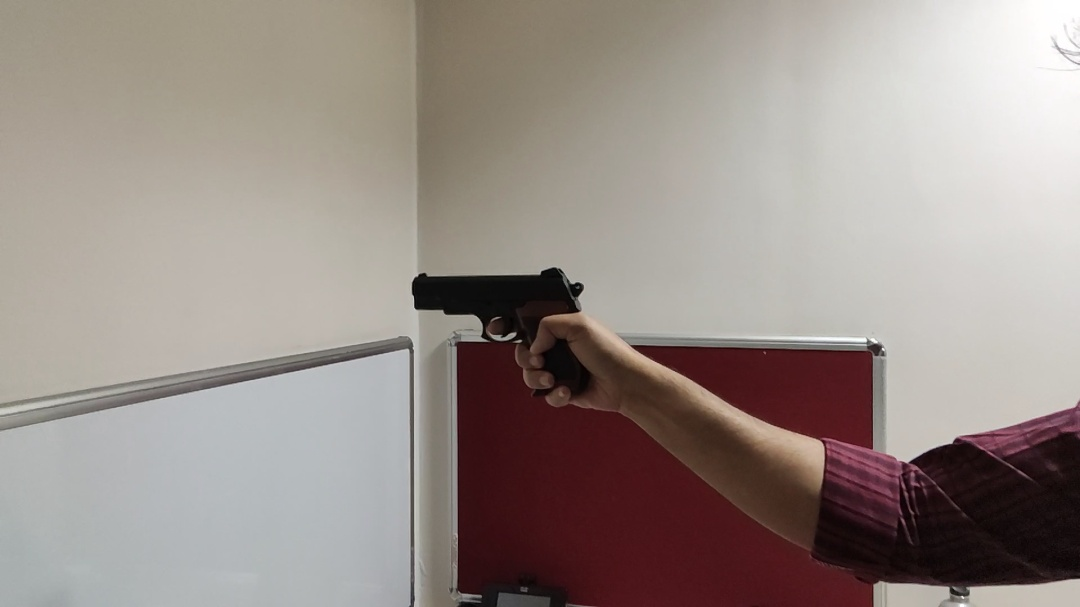gun: (413, 268, 597, 401)
